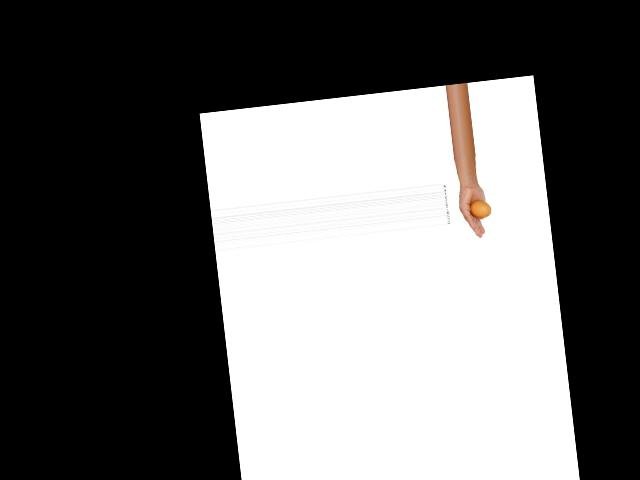egg: (468, 199, 491, 219)
